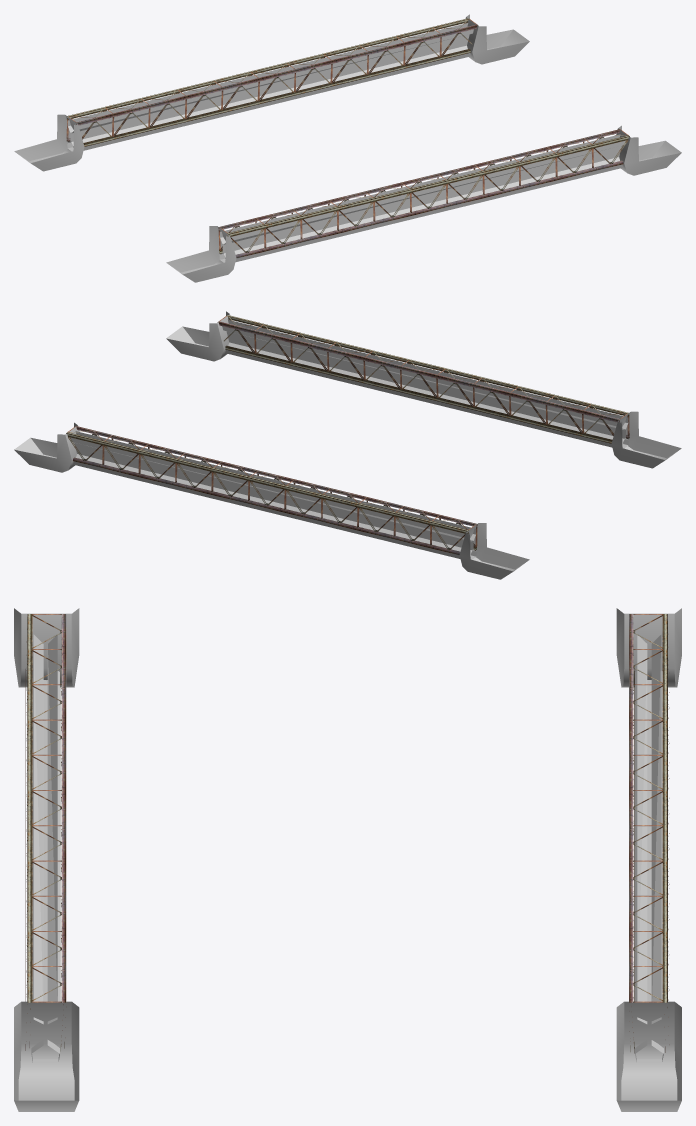
The model's file is EQP_Crane_BeamsSupport.FBX.
3 renders of one model, top to bottom at view 1: azimuth 30°, elevation 25°; view 2: azimuth 150°, elevation 25°; view 3: azimuth 270°, elevation 25°, orthographic. The views are drawn at different scales.
Parts seen in each view (by area): view 1: EQP_Crane_BeamsSupportMetal, EQP_Crane_BeamsGirder; view 2: EQP_Crane_BeamsSupportMetal, EQP_Crane_BeamsGirder; view 3: EQP_Crane_BeamsSupportMetal, EQP_Crane_BeamsGirder.
Part boxes in pixels (x1,y1,x2,y2): EQP_Crane_BeamsSupportMetal: [14, 14, 681, 282]; EQP_Crane_BeamsGirder: [66, 18, 629, 258]; EQP_Crane_BeamsSupportMetal: [14, 311, 681, 579]; EQP_Crane_BeamsGirder: [66, 315, 629, 555]; EQP_Crane_BeamsSupportMetal: [14, 608, 681, 1111]; EQP_Crane_BeamsGirder: [25, 614, 669, 1053].
Size of the model in its own units: 1814 by 133 by 1059.
